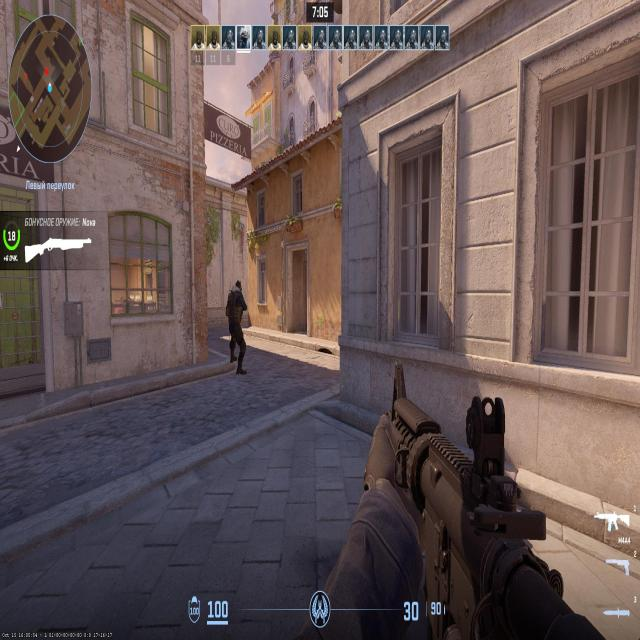CT: (229, 277, 245, 366)
CT_heat: (234, 281, 239, 292)
